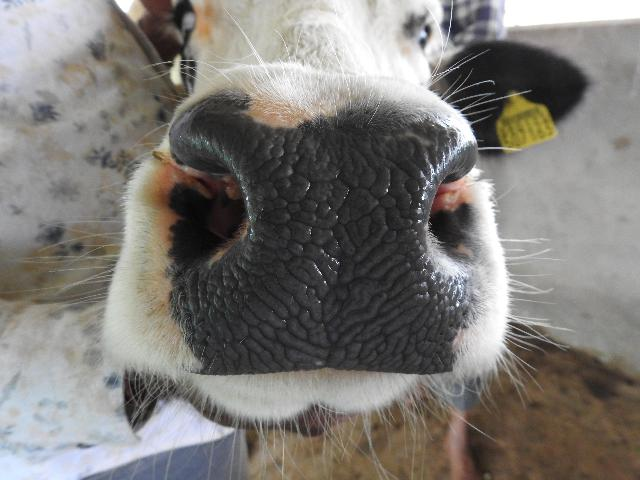Muzzle: (218, 123, 428, 378)
